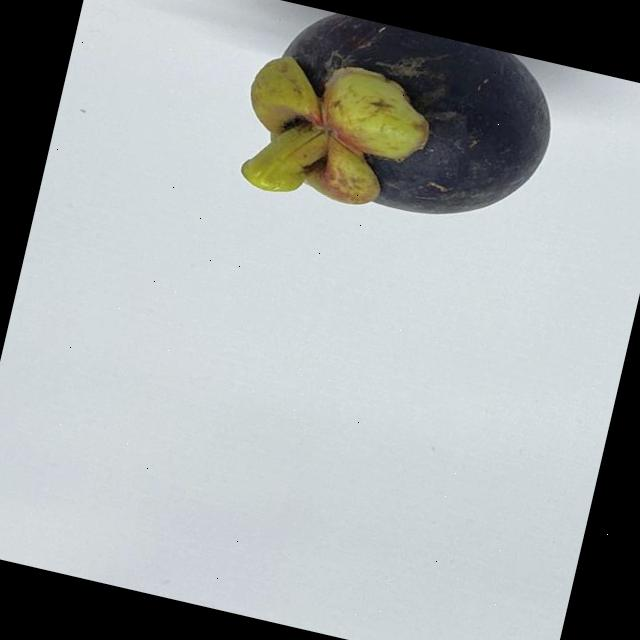mangosteen: (210, 0, 601, 285)
